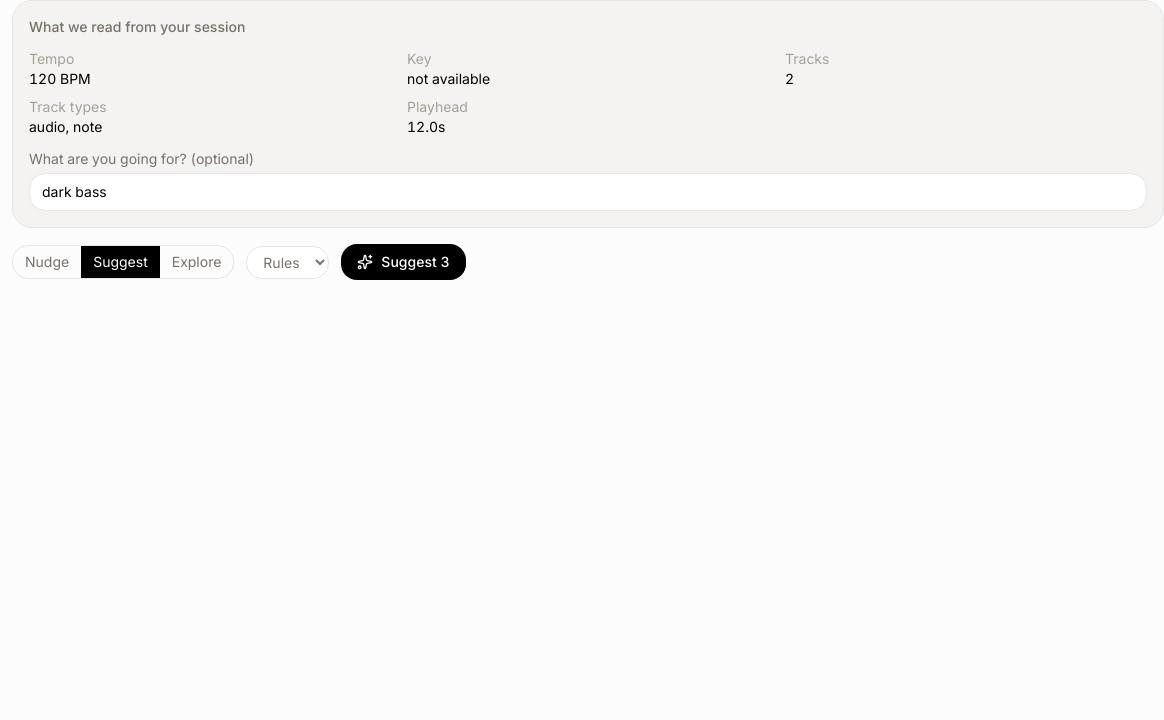
Test: ContinuationPanel › labels results served by the rules fallback
Click the button "Suggest 3": (404, 262) [341, 244, 466, 280]
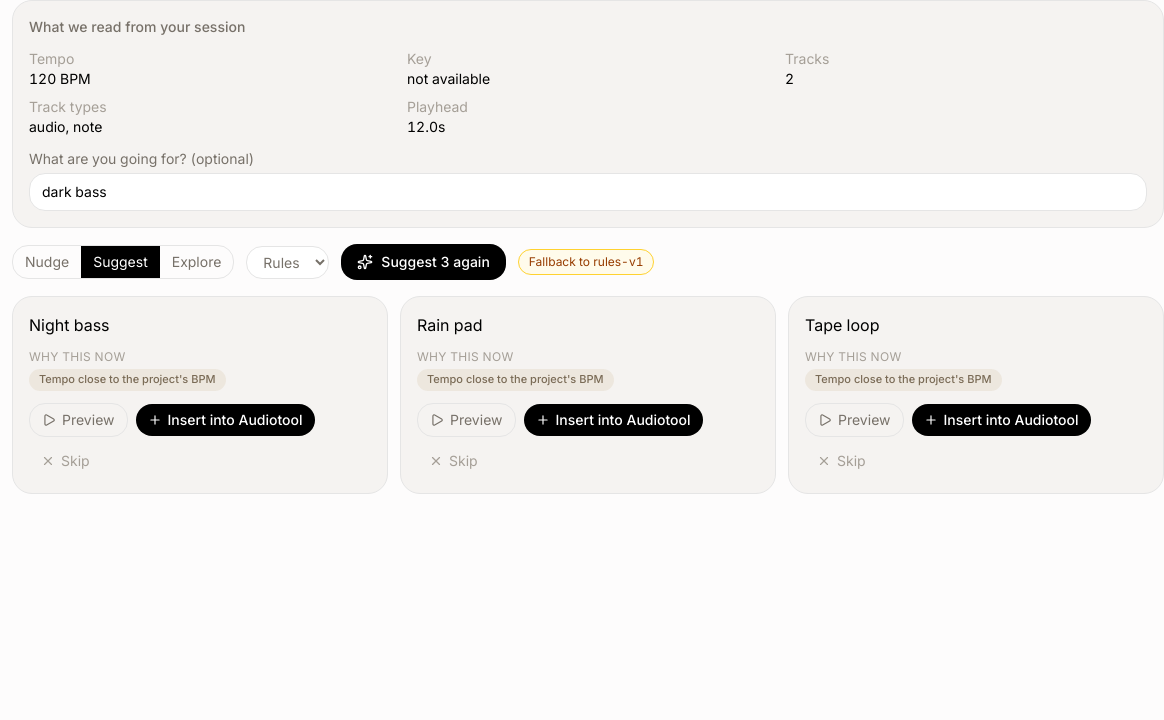
Check: the text "Fallback to rules-v1" is shown, box [518, 249, 654, 275]
